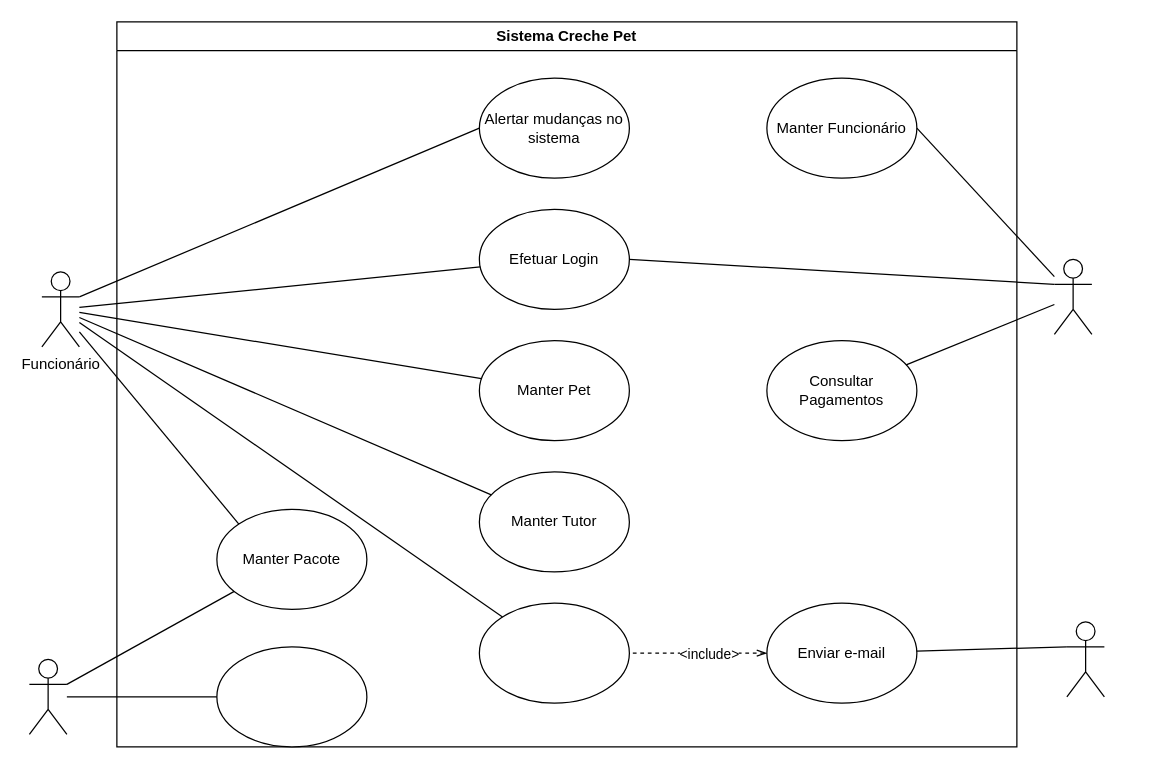
The diagram is 1168 pixels wide and 783 high, and some of its shapes have lost their labels. Here are the shapes that lost their labels. From the top down, the centre of each, then its label:
(1072,296): Gerente
(553,652): Manter rotina
(1085,659): Servidor de e-mail
(47,696): Tutor
(291,696): Realizar pagamento
